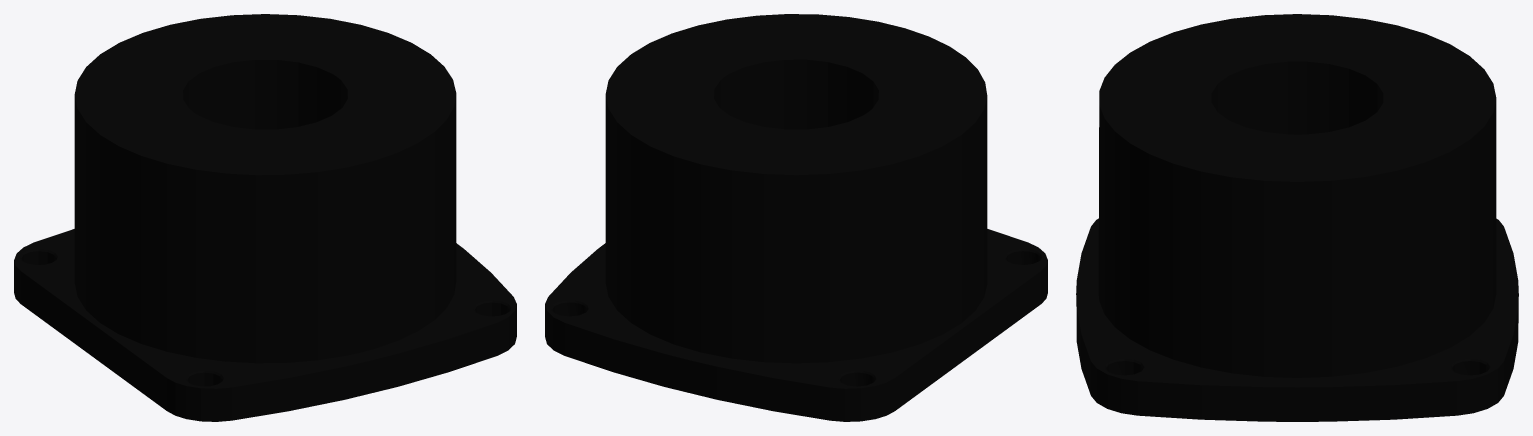
Rendered from left_arm_base.obj.
3 views of the same model, side by side, from view 1: azimuth 30°, elevation 25°; view 2: azimuth 150°, elevation 25°; view 3: azimuth 270°, elevation 25° (orthographic). The views are drawn at different scales.
Parts seen in each view (by area): view 1: left_arm_base_link; view 2: left_arm_base_link; view 3: left_arm_base_link.
Part boxes in pixels (bbox=[...]): left_arm_base_link: bbox=[14, 14, 516, 421]; left_arm_base_link: bbox=[545, 14, 1047, 421]; left_arm_base_link: bbox=[1076, 14, 1518, 421].
Bounding box in the file's own units: 0.1237 × 0.0735 × 0.128.
1 material, 1 textured.
